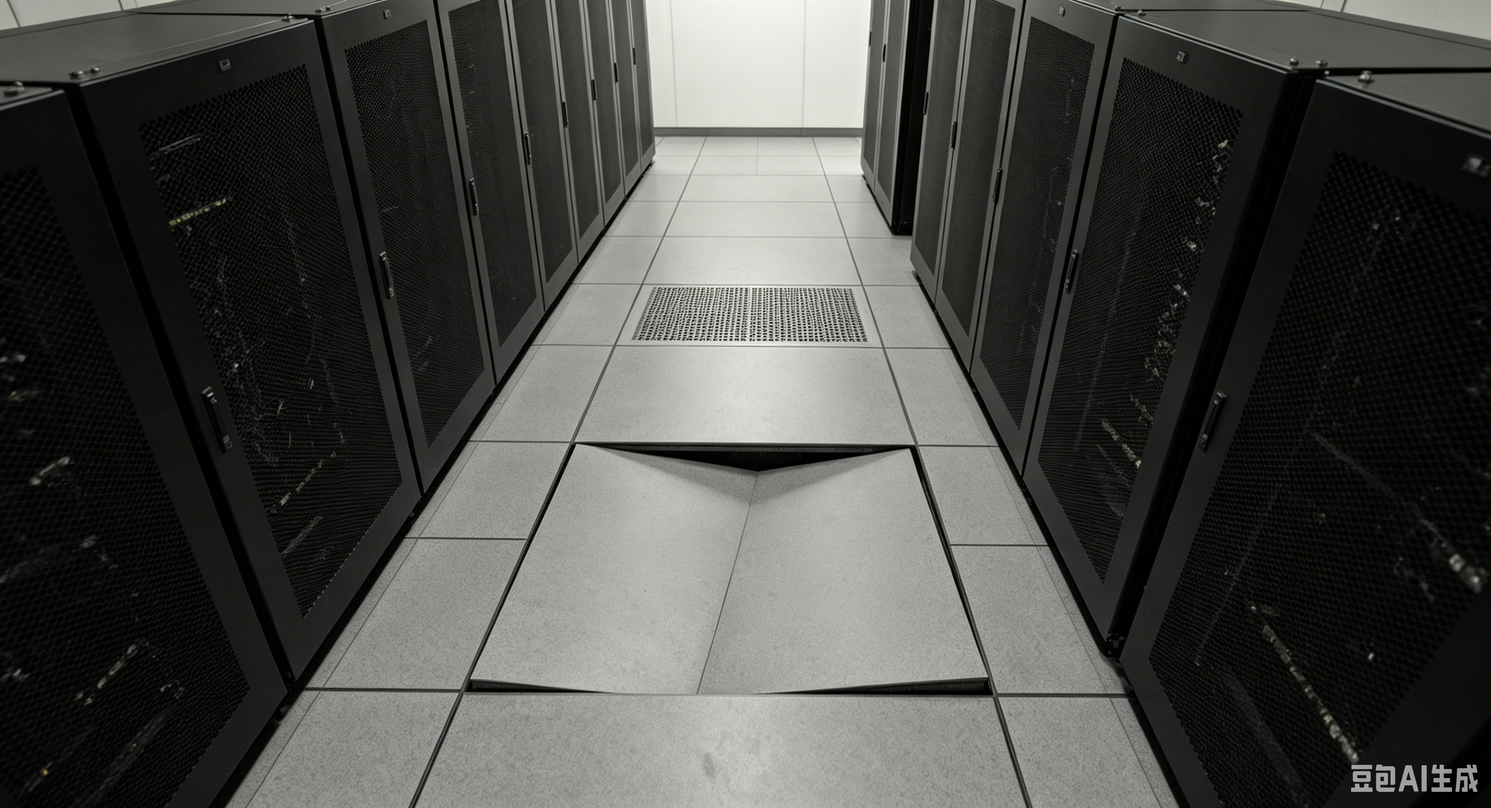floor_defect: (455, 439, 1000, 698)
